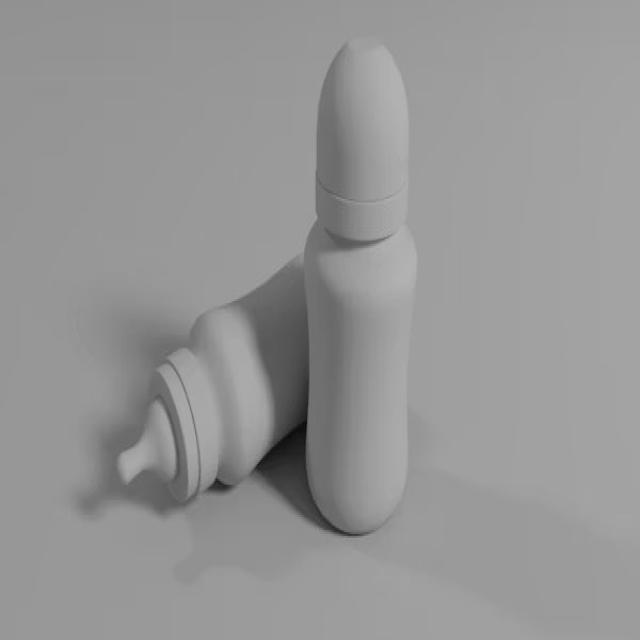Bottle: (304, 40, 417, 533), (118, 256, 308, 501)
